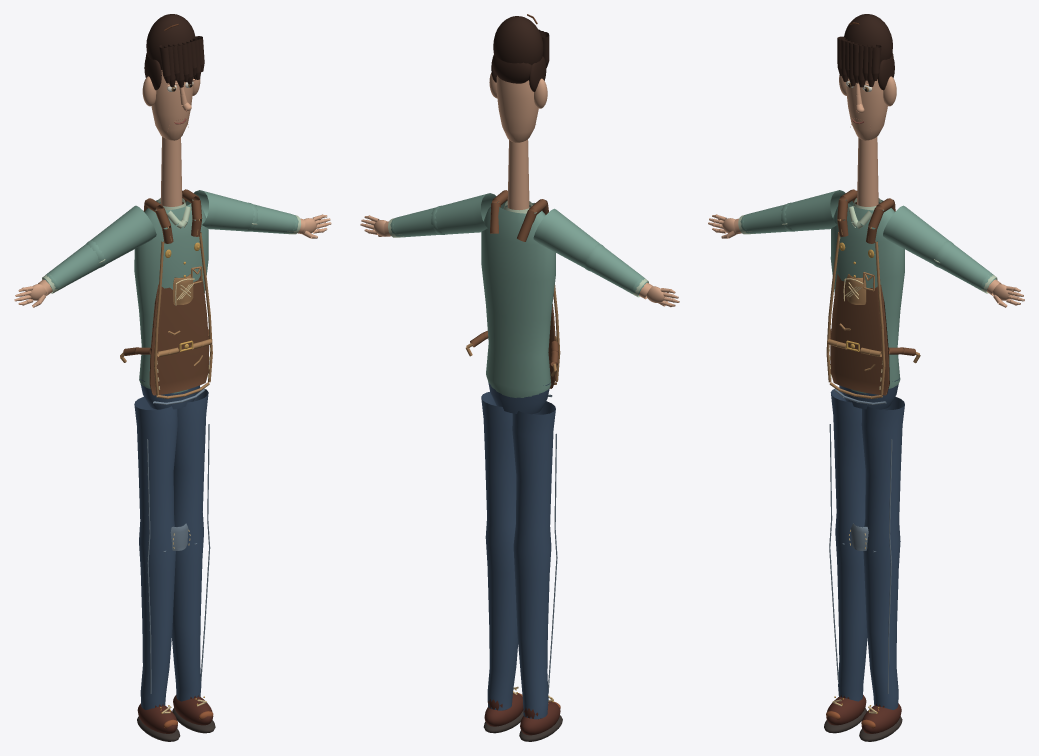
The picture shows the model from 3 angles, left to right: view 1: azimuth 30°, elevation 25°; view 2: azimuth 150°, elevation 25°; view 3: azimuth 330°, elevation 25°; orthographic projection.
Parts seen in each view (by area): view 1: Rafi_trouser, Rafi_shirt, Rafi_apron, Rafi_skin, Rafi_hair, Rafi_apron_wear, Rafi_trouser_seam, Rafi_boot, Rafi_sole, Rafi_shirt_light; view 2: Rafi_trouser, Rafi_shirt, Rafi_skin, Rafi_hair, Rafi_apron, Rafi_boot, Rafi_sole; view 3: Rafi_trouser, Rafi_shirt, Rafi_apron, Rafi_skin, Rafi_hair, Rafi_apron_wear, Rafi_trouser_seam, Rafi_boot, Rafi_sole, Rafi_shirt_light.
Part boxes in pixels (bbox=[...]): Rafi_trouser: bbox=[134, 378, 208, 709]; Rafi_shirt: bbox=[43, 190, 298, 393]; Rafi_apron: bbox=[123, 189, 209, 395]; Rafi_skin: bbox=[14, 70, 330, 307]; Rafi_hair: bbox=[144, 14, 204, 90]; Rafi_apron_wear: bbox=[120, 219, 212, 398]; Rafi_trouser_seam: bbox=[147, 389, 210, 693]; Rafi_boot: bbox=[137, 695, 213, 733]; Rafi_sole: bbox=[137, 708, 215, 741]; Rafi_shirt_light: bbox=[42, 198, 301, 293]; Rafi_trouser: bbox=[481, 382, 555, 719]; Rafi_shirt: bbox=[390, 193, 647, 397]; Rafi_skin: bbox=[360, 72, 679, 307]; Rafi_hair: bbox=[491, 16, 549, 91]; Rafi_apron: bbox=[470, 190, 558, 388]; Rafi_boot: bbox=[484, 693, 560, 735]; Rafi_sole: bbox=[483, 710, 562, 741]; Rafi_trouser: bbox=[830, 378, 904, 709]; Rafi_shirt: bbox=[740, 190, 995, 393]; Rafi_apron: bbox=[830, 189, 915, 395]; Rafi_skin: bbox=[708, 75, 1024, 307]; Rafi_hair: bbox=[837, 14, 894, 90]; Rafi_apron_wear: bbox=[826, 219, 920, 398]; Rafi_trouser_seam: bbox=[829, 389, 892, 693]; Rafi_boot: bbox=[826, 695, 901, 733]; Rafi_sole: bbox=[824, 708, 902, 741]; Rafi_shirt_light: bbox=[738, 198, 997, 293].
Size of the model in its own units: 3.49 by 7.5 by 0.6558.
